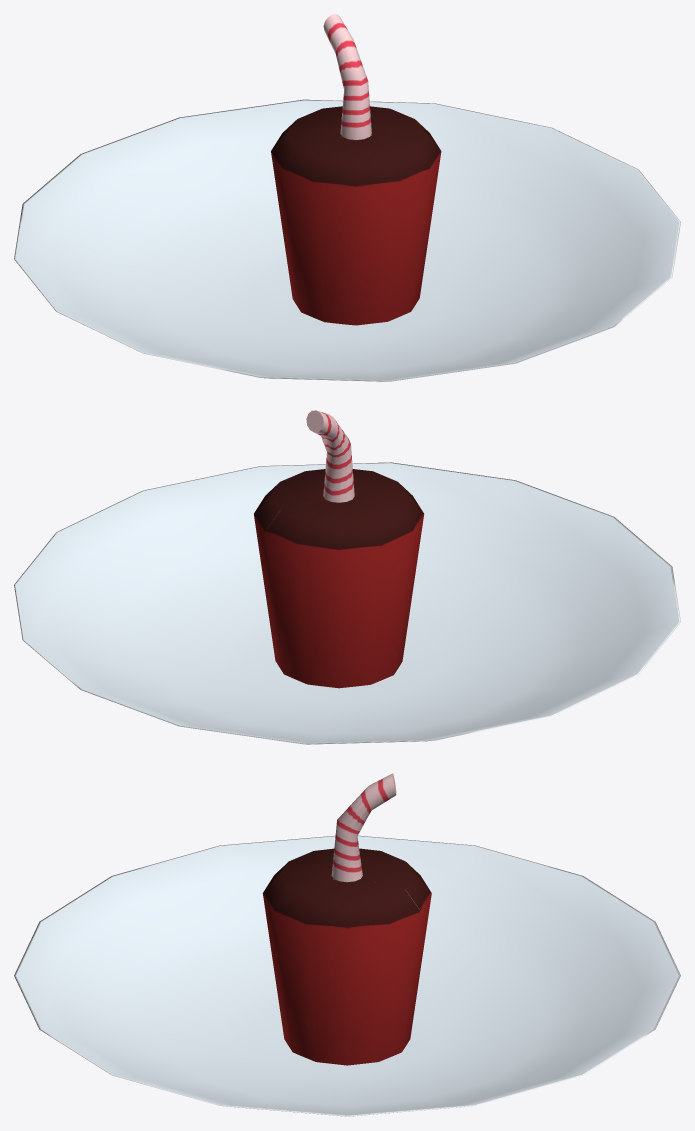
File: Refresco.fbx
3 renders of one model, top to bottom at view 1: azimuth 30°, elevation 25°; view 2: azimuth 150°, elevation 25°; view 3: azimuth 270°, elevation 25°, orthographic.
Visible parts, largest first — view 1: Refresco; view 2: Refresco; view 3: Refresco.
Part boxes in pixels (x1,y1,x2,y2): Refresco: (14, 14, 680, 381); Refresco: (14, 410, 680, 744); Refresco: (14, 773, 680, 1116).
Size of the model in its own units: 27.8 by 12.67 by 27.8.
1 material, 1 textured.
